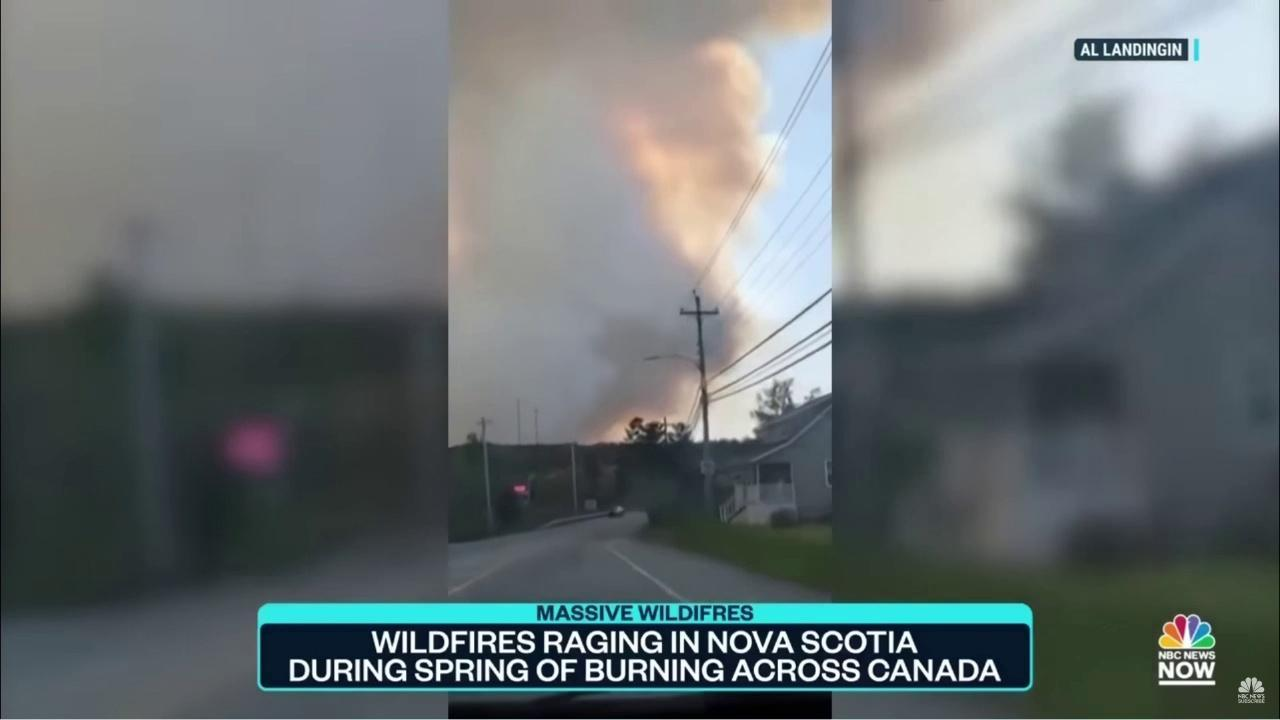smoke: (448, 0, 834, 450)
